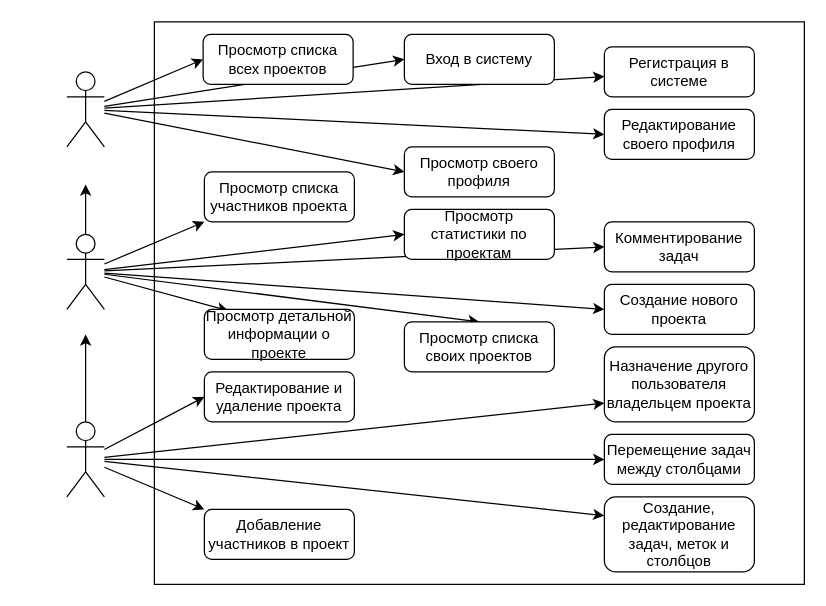
The diagram is 826 pixels wide and 606 high, and some of its shapes have lost their labels. Here are the shapes that lost their labels. From the top down, the centre of each, then its label:
point (85, 109): Гость
point (85, 271): Пользователь
point (85, 459): Владелец проекта
